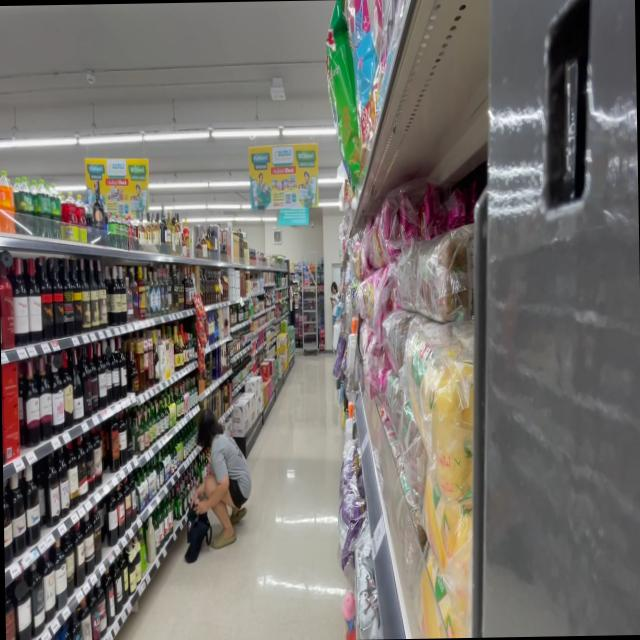shoplifting: (180, 403, 250, 568)
